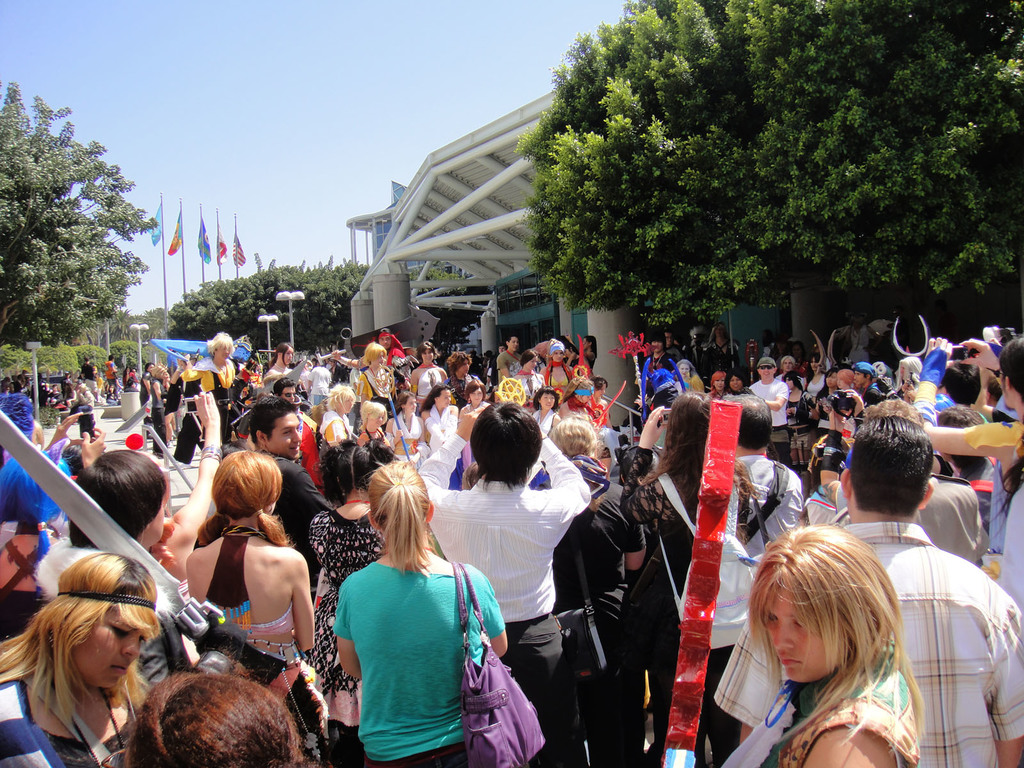Person: (0, 327, 1024, 767)
